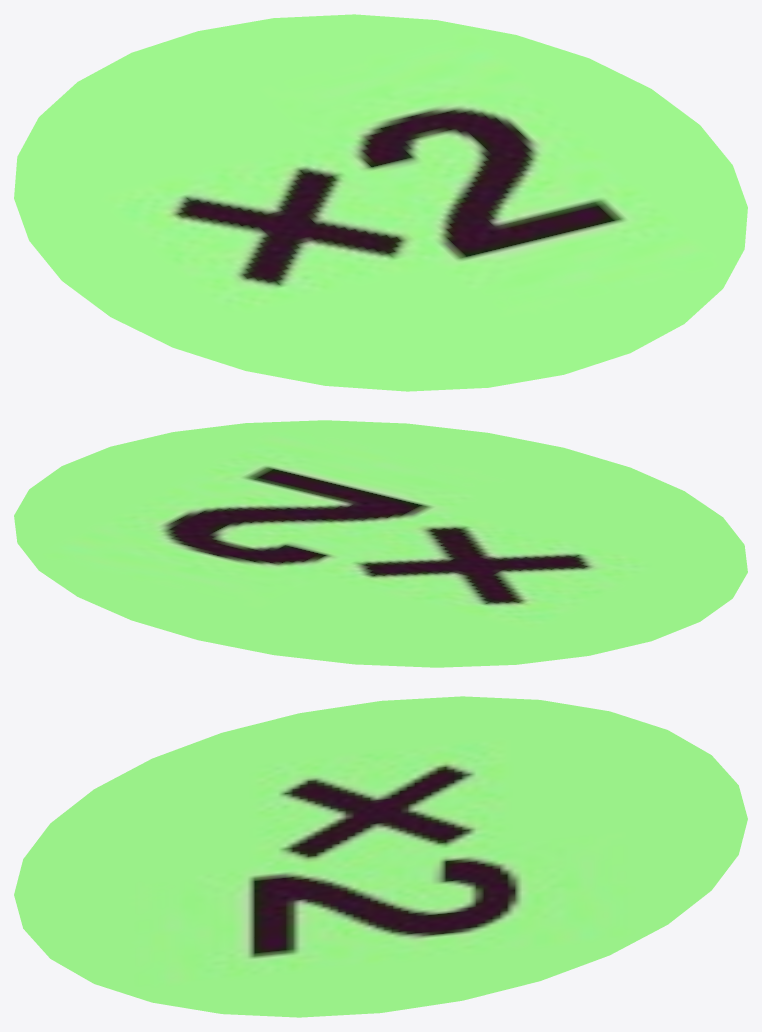
File: pp_light_mult2.glb
3 renders of one model, top to bottom at view 1: azimuth 30°, elevation 25°; view 2: azimuth 150°, elevation 25°; view 3: azimuth 270°, elevation 25°, orthographic.
Parts seen in each view (by area): view 1: MultLight; view 2: MultLight; view 3: MultLight.
Boxes of the visible parts, left/top/right/bottom form: MultLight: left=14, top=14, right=747, bottom=391; MultLight: left=14, top=420, right=747, bottom=667; MultLight: left=14, top=696, right=747, bottom=1017.
Bounding box in the file's own units: 0.025 × 0.00283 × 0.0248.
Materials: 1 (1 with a texture image).
